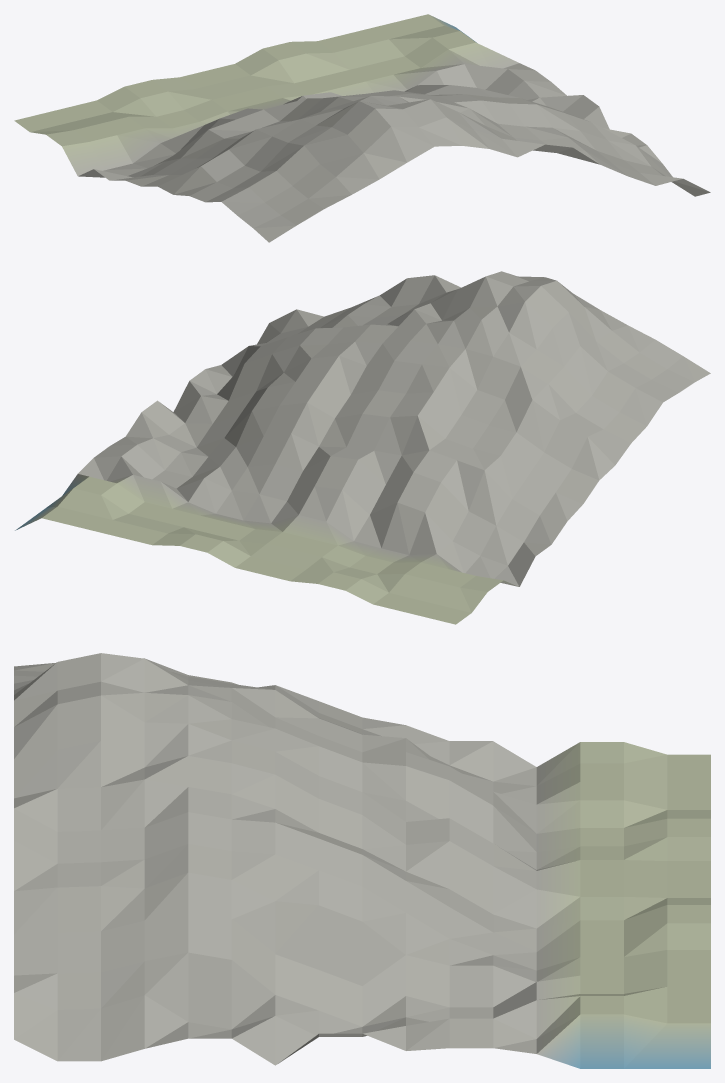
3 views of the same model, one above another, from view 1: azimuth 30°, elevation 25°; view 2: azimuth 150°, elevation 25°; view 3: azimuth 270°, elevation 25° (orthographic). The views are drawn at different scales.
Size of the model in its own units: 32 by 10.81 by 32.
